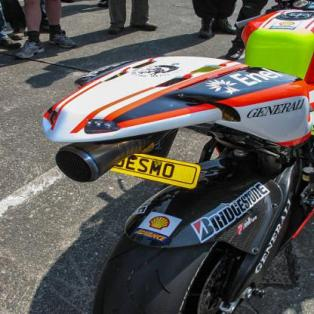Motocicleta: (34, 0, 314, 313)
